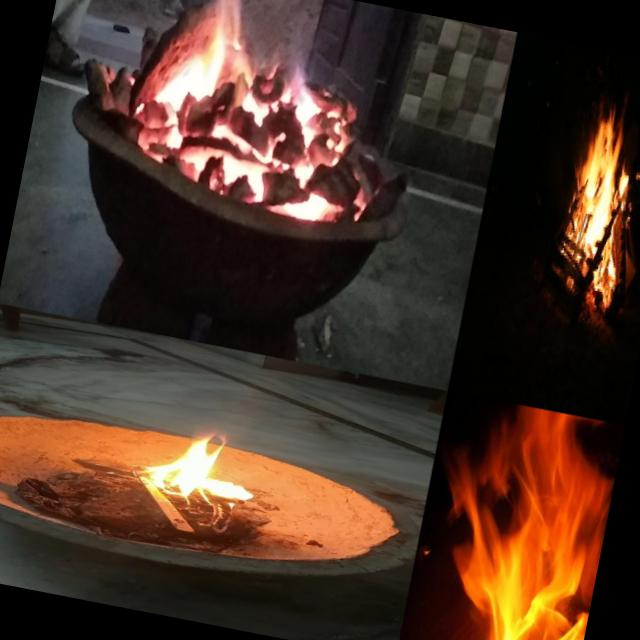fire: (133, 0, 404, 243), (405, 393, 625, 640), (549, 94, 640, 303), (120, 410, 276, 514)
